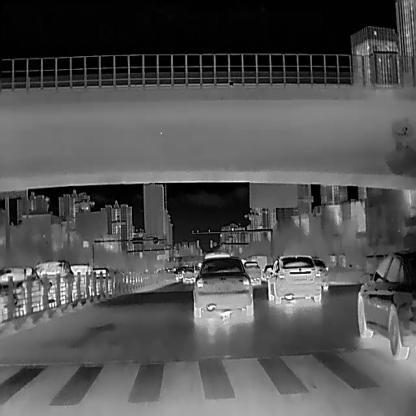car: (357, 251, 415, 359), (193, 256, 254, 321), (267, 255, 321, 303), (0, 265, 45, 315), (34, 260, 73, 304), (70, 263, 92, 298), (92, 266, 110, 293), (313, 258, 328, 290), (243, 260, 261, 284), (182, 268, 196, 282), (262, 264, 273, 281), (204, 251, 230, 258)
crosswalk: (0, 347, 415, 416)
